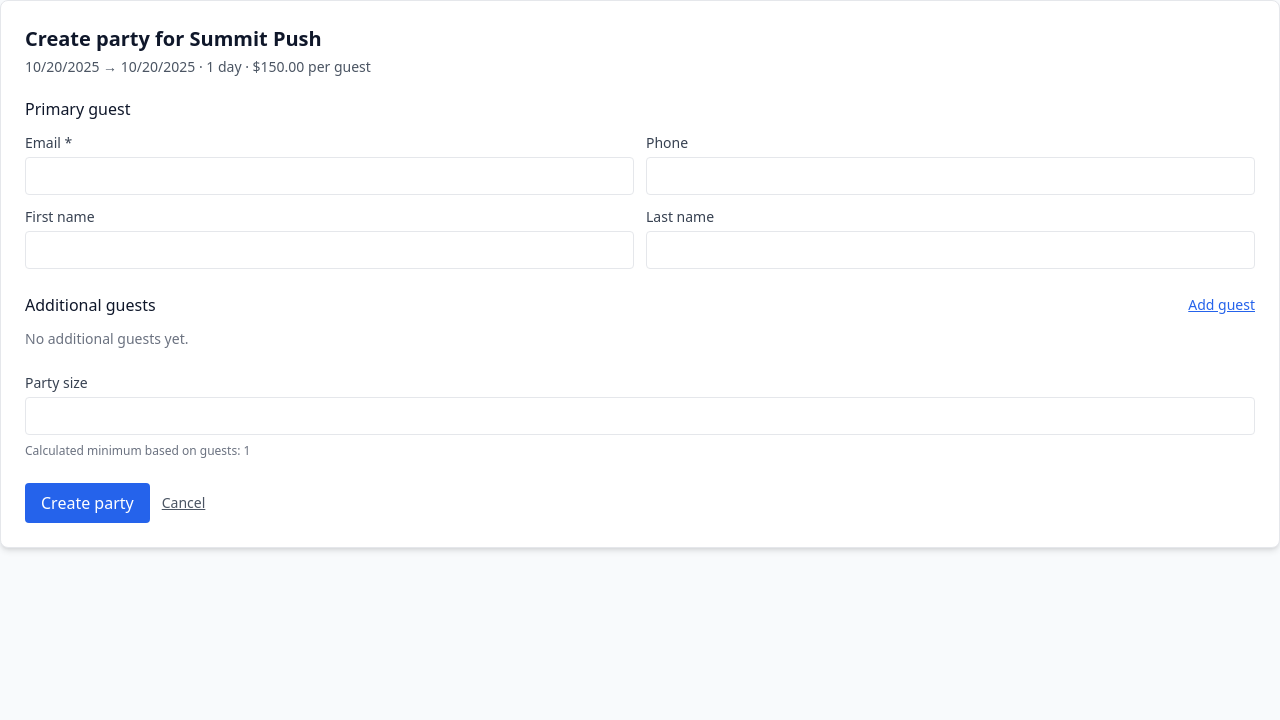
Test case: CreatePartyForm › requires primary guest email
The image size is (1280, 720).
Click the button "Create party" at (87, 503), box [25,483,150,523]
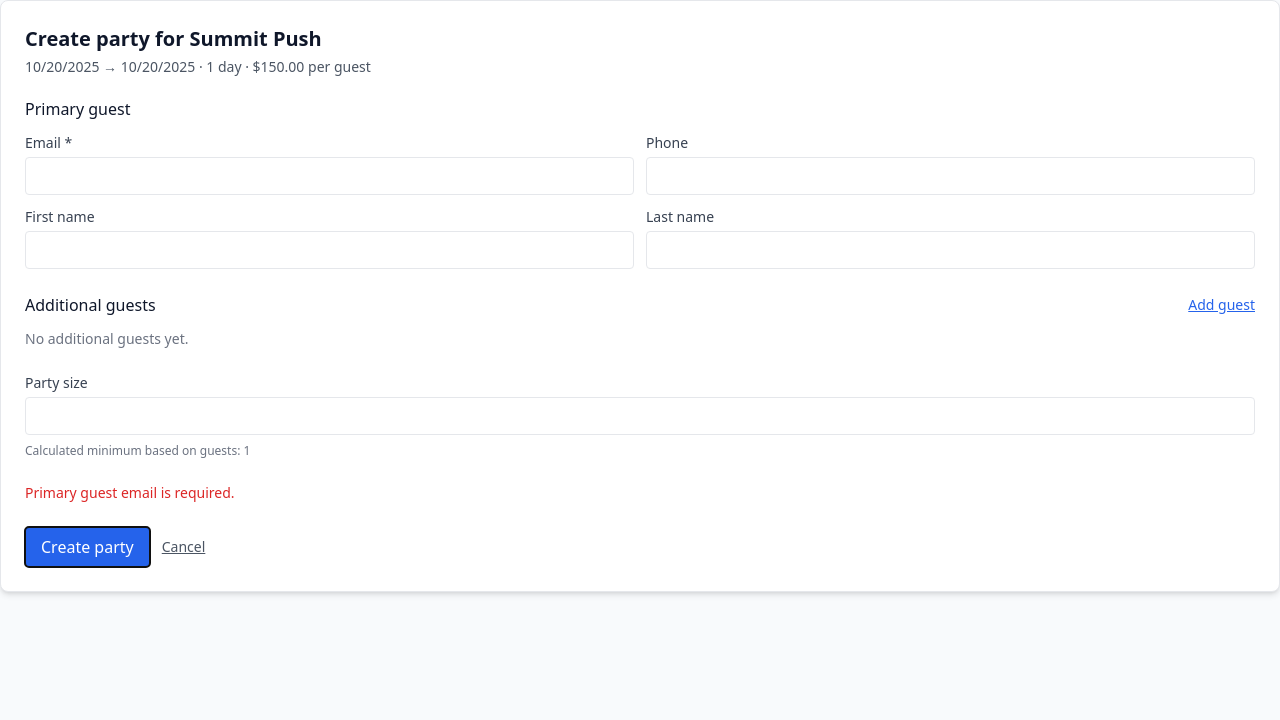
Expected: the text "Primary guest email is required." is shown, [25,483,235,502]
